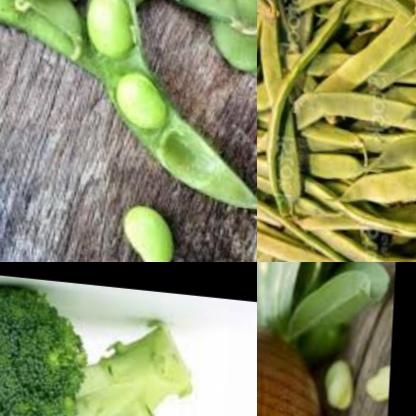beans: (0, 0, 257, 216), (257, 0, 416, 262), (74, 0, 202, 157), (111, 180, 202, 262), (312, 342, 353, 414), (363, 349, 391, 416)
broccoli: (0, 275, 206, 416)
